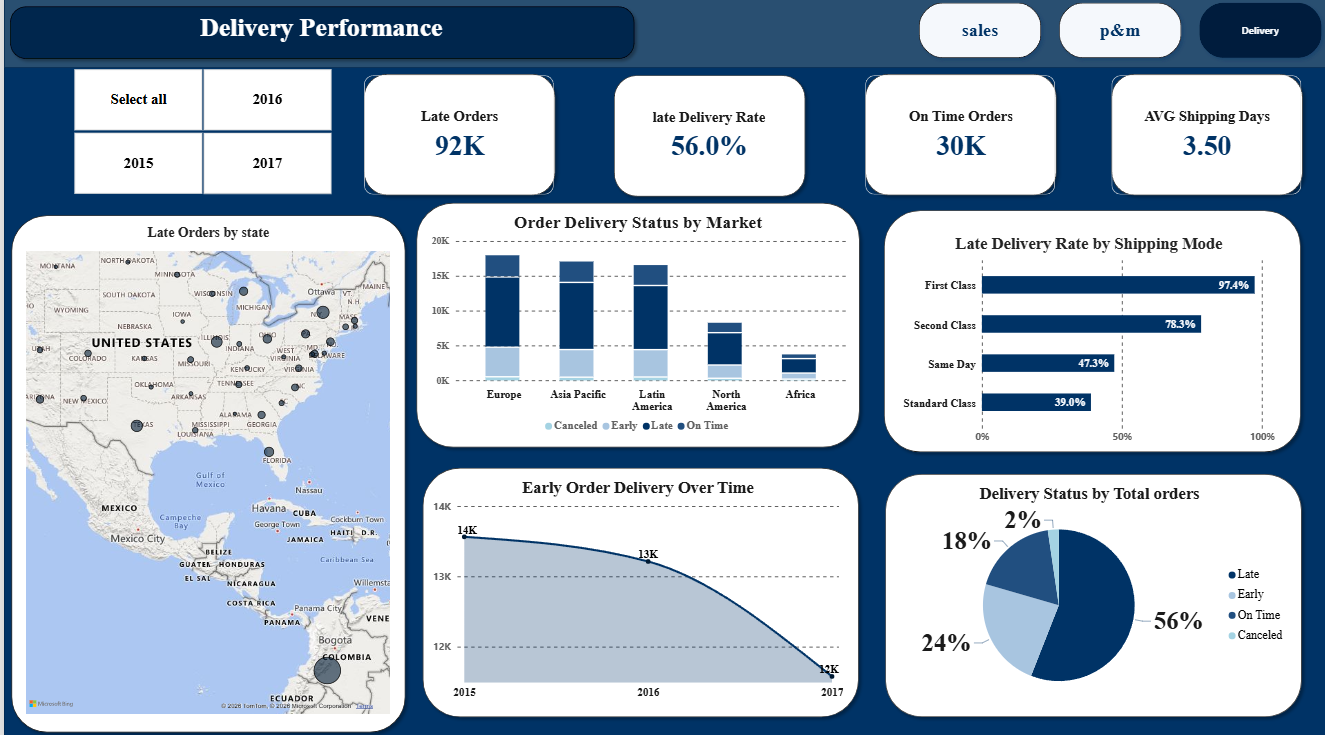

Layout of this report page (visuals, bound fields, positions):
{"tool":"powerbi","page":{"name":"Delivery","canvas":[1920,1080],"ordinal":2},"visuals":[{"type":"shape","box":[0,0,1920,1080.6],"z":0},{"type":"shape","box":[512.6,106.9,295.2,193.8],"z":0,"group":"g2"},{"type":"shape","box":[1238.9,106.9,295.2,193.8],"z":0,"group":"g4"},{"type":"shape","box":[1595.7,106.9,295.2,193.8],"z":0,"group":"g1"},{"type":"group","id":"g1","title":"kpi 4","box":[1595.7,106.9,294.3,194.1],"z":0,"group":"g8"},{"type":"shape","box":[875.7,109,295.2,193.8],"z":0,"group":"g6"},{"type":"shape","box":[588.9,293.5,660.3,372.8],"z":0,"group":"g7"},{"type":"shape","box":[1266.5,304.6,622,368.6],"z":0,"group":"g3"},{"type":"shape","box":[1.8,312,588.9,767.5],"z":0,"group":"g10"},{"type":"shape","box":[598.2,677.5,649.9,379.4],"z":0,"group":"g5"},{"type":"shape","box":[1268.3,686.8,621.6,370.3],"z":0,"group":"g9"},{"type":"group","id":"g2","title":"kpi 3","box":[512.6,106.9,294.3,194.1],"z":1000,"group":"g8"},{"type":"cardVisual","fields":{"Data":["DataCoSupplyChainDataset_clean_processing.Late Orders"]},"box":[521.3,118.4,275.5,173.2],"z":1000,"group":"g2"},{"type":"cardVisual","fields":{"Data":["DataCoSupplyChainDataset_clean_processing.On Time Orders"]},"box":[1247.6,118.4,275.5,173.2],"z":1000,"group":"g4"},{"type":"cardVisual","fields":{"Data":["DataCoSupplyChainDataset_clean_processing.AVG Shipping Days"]},"box":[1604.4,118.4,275.5,173.2],"z":1000,"group":"g1"},{"type":"cardVisual","fields":{"Data":["DataCoSupplyChainDataset_clean_processing.late Delivery Rate"]},"box":[884.4,120.5,275.5,173.2],"z":1000,"group":"g6"},{"type":"columnChart","title":"Order Delivery Status by Market","fields":{"Category":["DataCoSupplyChainDataset_clean_processing.Market"],"Series":["DataCoSupplyChainDataset_clean_processing.Delivery_Status"],"Y":["DataCoSupplyChainDataset_clean_processing.Total Orders"]},"box":[598.8,302.5,642.2,355.1],"z":1000,"group":"g7"},{"type":"group","id":"g3","title":"1","box":[1266.5,304.6,622.2,369.2],"z":1000},{"type":"clusteredBarChart","title":"Late Delivery Rate by Shipping Mode","fields":{"Category":["DataCoSupplyChainDataset_clean_processing.Shipping_Mode"],"Y":["DataCoSupplyChainDataset_clean_processing.late Delivery Rate"]},"box":[1287.3,334.5,571.6,339.2],"z":1000,"group":"g3"},{"type":"lineChart","title":"Early Order Delivery Over Time","fields":{"Category":["Date Table.Year"],"Y":["DataCoSupplyChainDataset_clean_processing.Early Orders"]},"box":[605.5,686.3,626.8,352.9],"z":1000,"group":"g5"},{"type":"pieChart","title":"Delivery Status by Total orders","fields":{"Category":["DataCoSupplyChainDataset_clean_processing.Delivery_Status"],"Y":["DataCoSupplyChainDataset_clean_processing.Total Orders"]},"box":[1268.3,695.2,610.1,351.2],"z":1000,"group":"g9"},{"type":"group","id":"g4","title":"kpi 2","box":[1238.9,106.9,294.3,194.1],"z":2000,"group":"g8"},{"type":"group","id":"g5","title":"2","box":[598.2,677.5,649.8,380.3],"z":2000},{"type":"group","id":"g6","title":"kpi 1","box":[875.7,109,294.3,194.1],"z":3000,"group":"g8"},{"type":"group","id":"g7","title":"3","box":[588.9,293.5,659.1,372.9],"z":3000},{"type":"group","id":"g8","title":"Group 2","box":[512.6,106.9,1376.6,197.4],"z":4000},{"type":"group","id":"g9","title":"4","box":[1268.3,686.8,622.2,371.1],"z":5000},{"type":"slicer","fields":{"Values":["Date Table.Year"]},"box":[81.2,107.1,411.7,184.6],"z":6000},{"type":"map","title":"Late Orders by state","fields":{"Category":["DataCoSupplyChainDataset_clean_processing.Customer_State"],"Size":["DataCoSupplyChainDataset_clean_processing.Late Orders"]},"box":[16.9,321.2,559.4,738.5],"z":6000,"group":"g10"},{"type":"group","id":"g10","title":"Group 1","box":[1.8,312,588.9,767.5],"z":7000},{"type":"shape","box":[0,0,1920,107.2],"z":8000},{"type":"shape","box":[0,8.3,922.4,93.9],"z":9000},{"type":"textbox","box":[16.7,27.1,887,66.8],"z":10000},{"type":"pageNavigator","box":[1316.9,4.2,603.1,98.1],"z":11001}]}

Visuals, with their boxes in screenshot pixels (x1, y1, x2, y2), scaled from the page's 1920x1080 canvas onto the 1325x735 screenshot:
shape: <region>0, 0, 1324, 734</region>
shape: <region>354, 73, 557, 205</region>
shape: <region>855, 73, 1059, 205</region>
shape: <region>1101, 73, 1305, 205</region>
"kpi 4" group: <region>1101, 73, 1304, 205</region>
shape: <region>604, 74, 808, 206</region>
shape: <region>406, 200, 862, 453</region>
shape: <region>874, 207, 1303, 458</region>
shape: <region>1, 212, 408, 734</region>
shape: <region>413, 461, 861, 719</region>
shape: <region>875, 467, 1304, 719</region>
"kpi 3" group: <region>354, 73, 557, 205</region>
cardVisual - DataCoSupplyChainDataset_clean_processing.Late Orders: <region>360, 81, 550, 198</region>
cardVisual - DataCoSupplyChainDataset_clean_processing.On Time Orders: <region>861, 81, 1051, 198</region>
cardVisual - DataCoSupplyChainDataset_clean_processing.AVG Shipping Days: <region>1107, 81, 1297, 198</region>
cardVisual - DataCoSupplyChainDataset_clean_processing.late Delivery Rate: <region>610, 82, 800, 200</region>
"Order Delivery Status by Market" columnChart: <region>413, 206, 856, 448</region>
"1" group: <region>874, 207, 1303, 459</region>
"Late Delivery Rate by Shipping Mode" clusteredBarChart: <region>888, 228, 1283, 458</region>
"Early Order Delivery Over Time" lineChart: <region>418, 467, 850, 707</region>
"Delivery Status by Total orders" pieChart: <region>875, 473, 1296, 712</region>
"kpi 2" group: <region>855, 73, 1058, 205</region>
"2" group: <region>413, 461, 861, 720</region>
"kpi 1" group: <region>604, 74, 807, 206</region>
"3" group: <region>406, 200, 861, 454</region>
"Group 2" group: <region>354, 73, 1304, 207</region>
"4" group: <region>875, 467, 1305, 720</region>
slicer - Date Table.Year: <region>56, 73, 340, 199</region>
"Late Orders by state" map: <region>12, 219, 398, 721</region>
"Group 1" group: <region>1, 212, 408, 734</region>
shape: <region>0, 0, 1324, 73</region>
shape: <region>0, 6, 637, 70</region>
textbox: <region>12, 18, 624, 64</region>
pageNavigator: <region>909, 3, 1324, 70</region>
